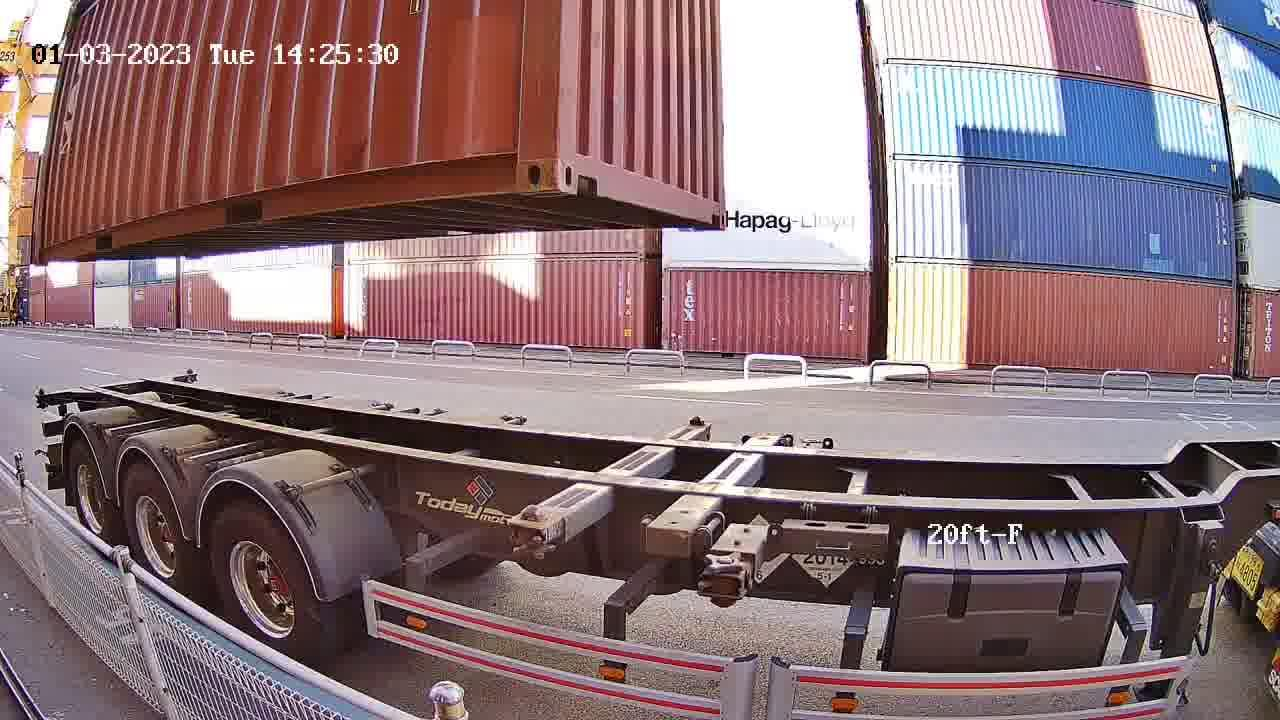Chassis: (509, 421, 711, 548)
Cone: (511, 503, 556, 561), (683, 412, 705, 428)
Hole_L: (556, 128, 605, 198)
Hole_R: (491, 135, 553, 193), (705, 188, 727, 229)
Tire: (209, 506, 318, 664), (122, 465, 189, 597), (69, 446, 112, 553)
